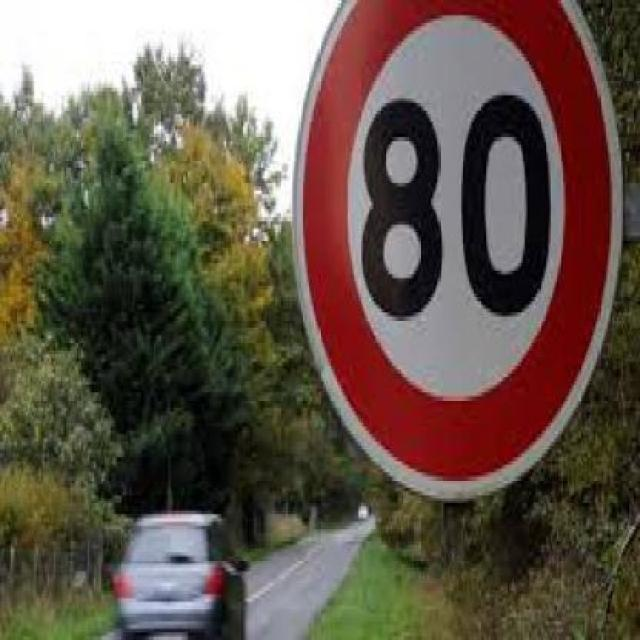forb_speed_over_80: (301, 2, 615, 499)
